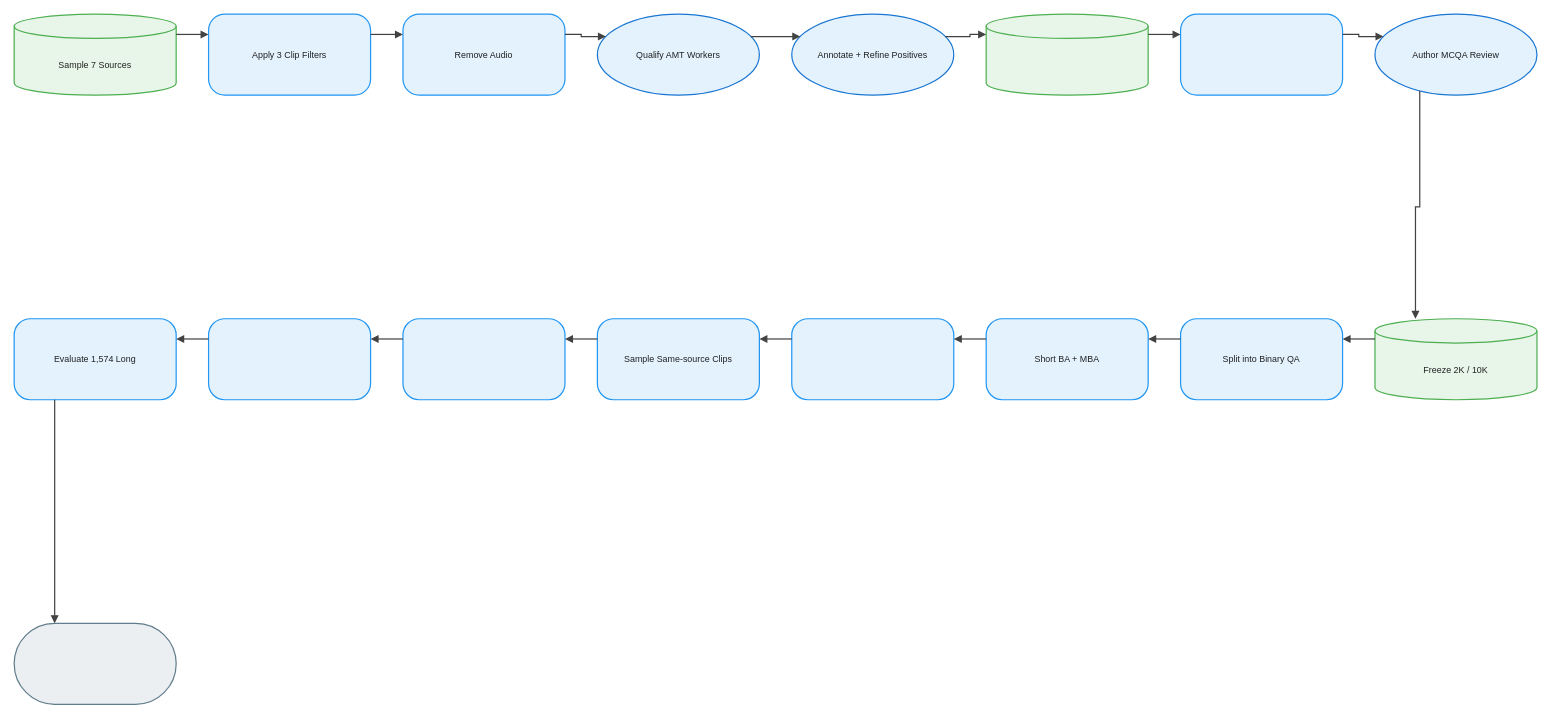
Some shapes in this 1552 by 719 pixel diagram are drawn without their labels. Here are the shapes that lost their labels. From the top down, the centre of each, then its label:
pixel 1066 54: Reuse FineGym
pixel 1261 54: 3-LLM Negatives
pixel 289 359: Replace One Caption
pixel 483 359: Build Long Segments
pixel 872 359: Shortcut Controls
pixel 94 663: Report Temporal Scores
